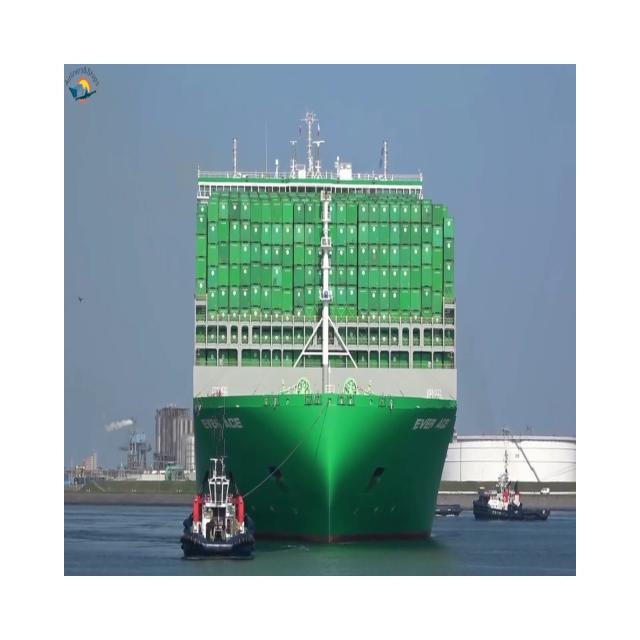OCR: (406, 401, 457, 446), (197, 408, 252, 439)
